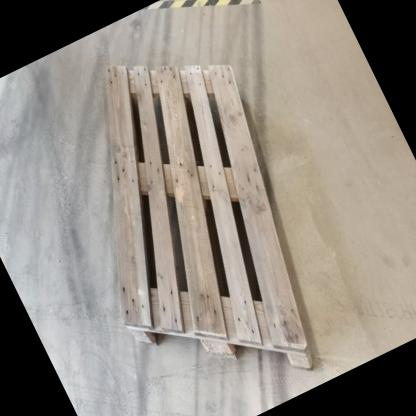BoxFace: (101, 58, 318, 376)
